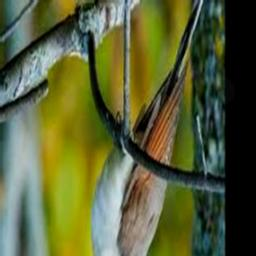Cuckoo: (89, 0, 216, 256)
